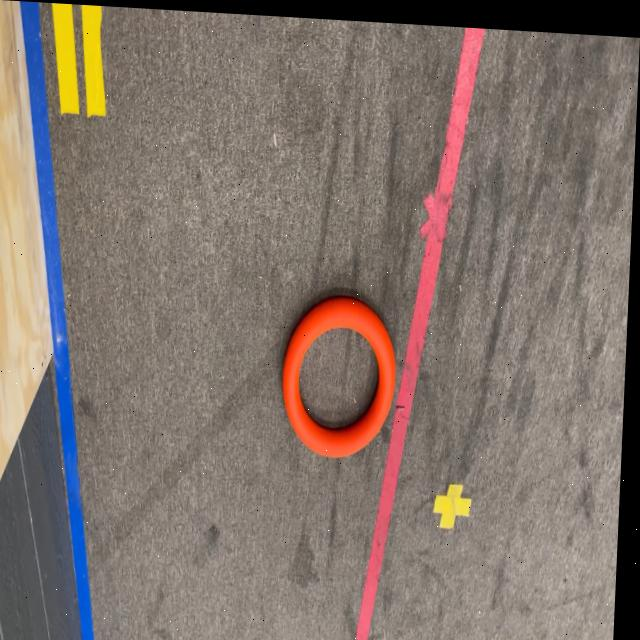note: (281, 292, 400, 458)
